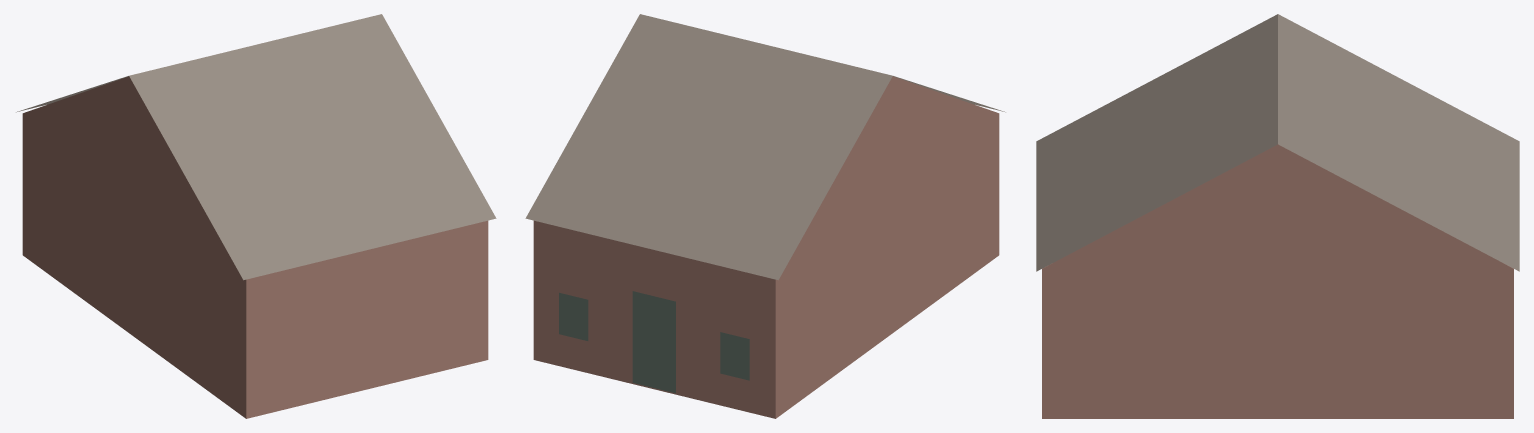
The model's file is recon_1835_north_a2_033__recommended_1835.glb.
3 renders of one model, left to right at view 1: azimuth 30°, elevation 25°; view 2: azimuth 150°, elevation 25°; view 3: azimuth 270°, elevation 25°, orthographic. The views are drawn at different scales.
Visible parts, largest first — view 1: recon_1835_north_a2_033__recommended_1835; view 2: recon_1835_north_a2_033__recommended_1835; view 3: recon_1835_north_a2_033__recommended_1835.
Boxes of the visible parts, x1,y1,x2,y2 form: recon_1835_north_a2_033__recommended_1835: (16,14,496,418); recon_1835_north_a2_033__recommended_1835: (525,14,1005,418); recon_1835_north_a2_033__recommended_1835: (1036,14,1519,418).
Bounding box in the file's own units: 6.38 × 6.33 × 9.99.
